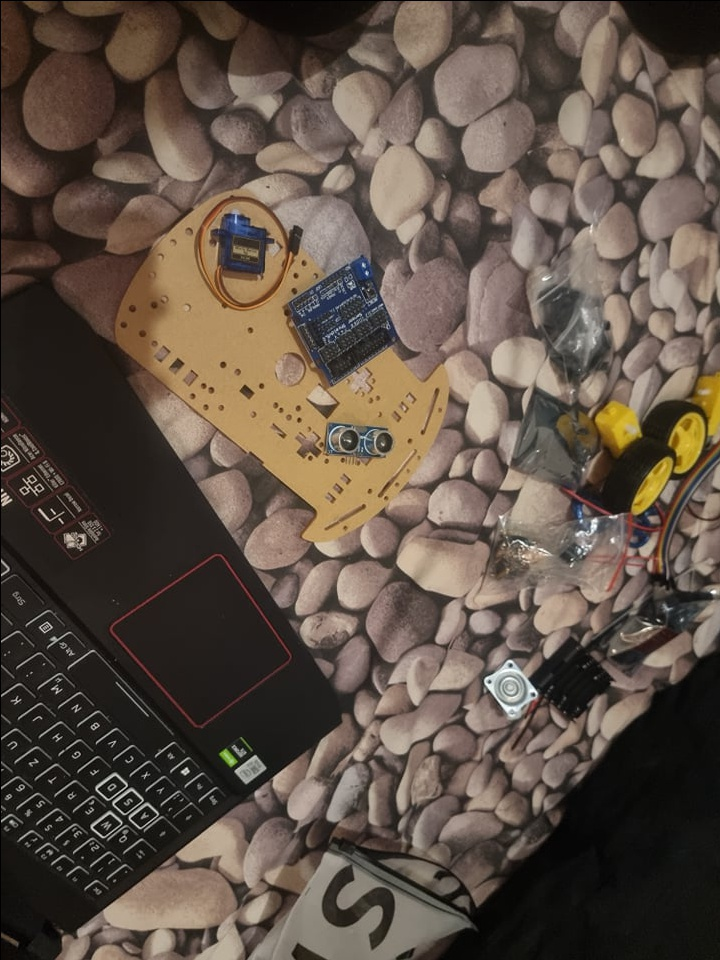5V EXPANSION: (284, 257, 402, 384)
BATTERY BOX: (531, 640, 617, 721)
SENSOR: (319, 422, 398, 461)
